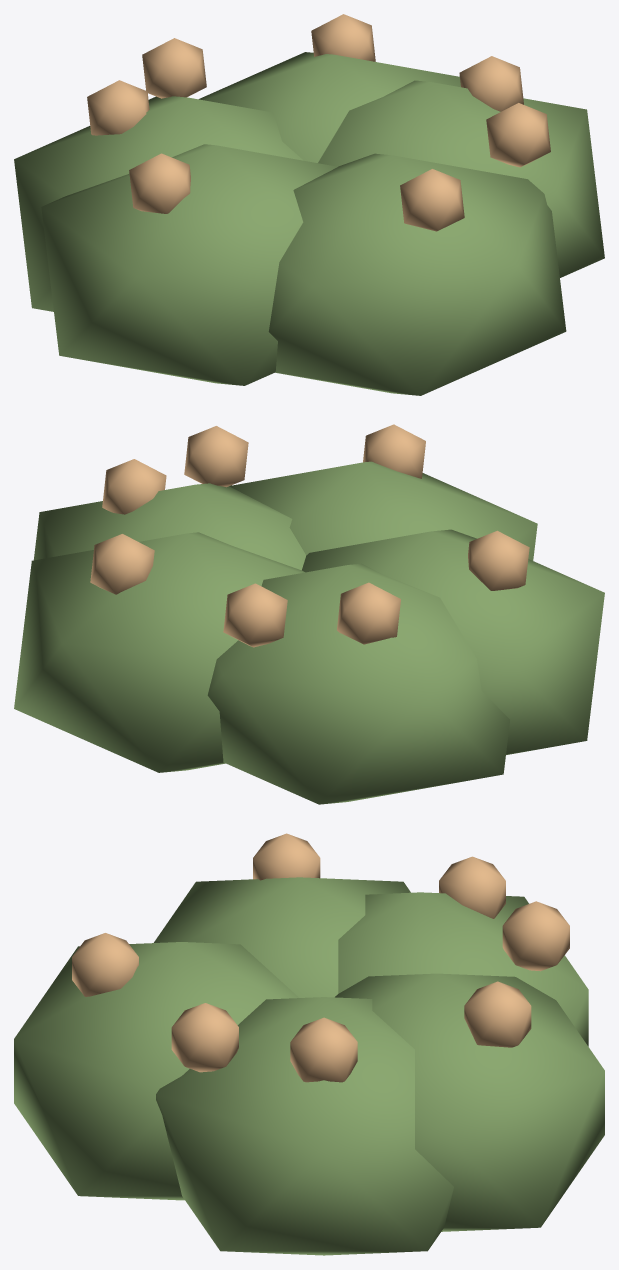
Rendered from foliage_shrub_flower.glb.
The picture shows the model from 3 angles, top to bottom: view 1: azimuth 30°, elevation 25°; view 2: azimuth 150°, elevation 25°; view 3: azimuth 270°, elevation 25°; orthographic projection. The views are drawn at different scales.
Parts seen in each view (by area): view 1: scenery_leaf, scenery_flower; view 2: scenery_leaf, scenery_flower; view 3: scenery_leaf, scenery_flower.
Boxes of the visible parts, bbox=[...] form: scenery_leaf: bbox=[14, 52, 604, 395]; scenery_flower: bbox=[87, 14, 550, 231]; scenery_leaf: bbox=[14, 461, 604, 804]; scenery_flower: bbox=[90, 424, 529, 647]; scenery_leaf: bbox=[14, 877, 604, 1255]; scenery_flower: bbox=[72, 833, 569, 1082].
Bounding box in the file's own units: 3.08 × 1.36 × 2.69.
